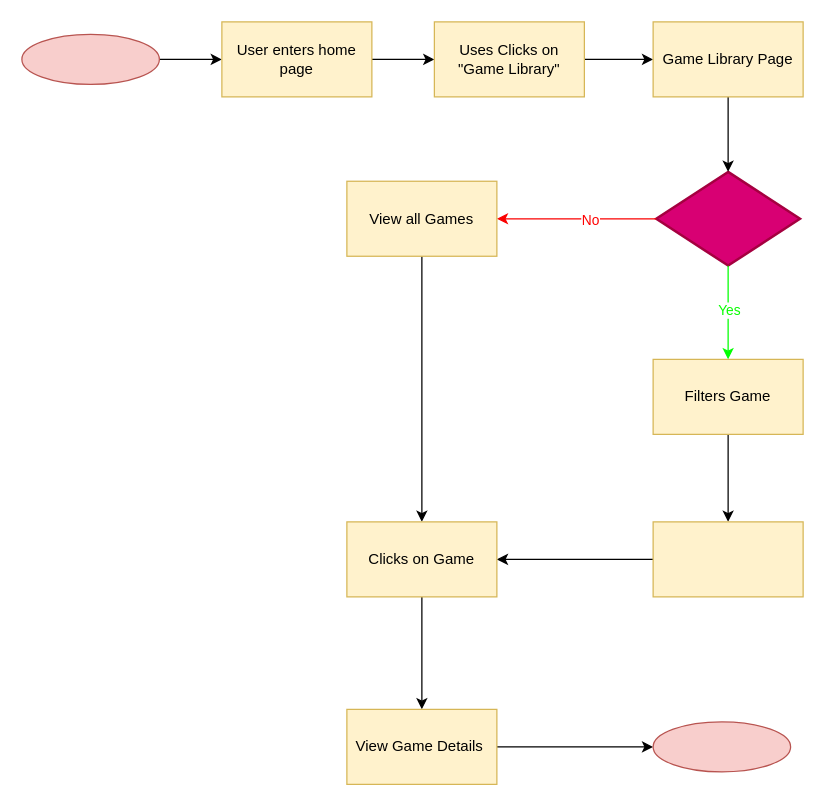
Image size: 825x806. Some labels were removed from this diagram. The centre of each missing label's shape, as x and y in pixels:
Apply Filters?: (x=727, y=218)
end: (x=721, y=746)
Start: (x=90, y=58)
Update Game List: (x=727, y=559)
